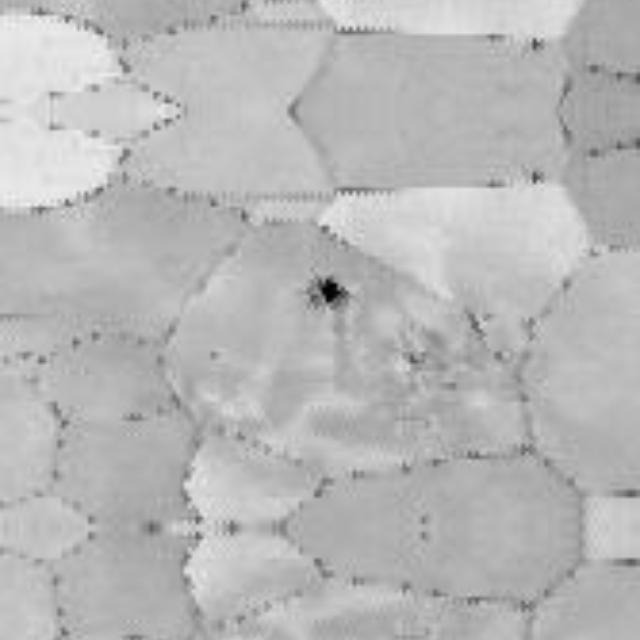good_void: (300, 272, 349, 313)
